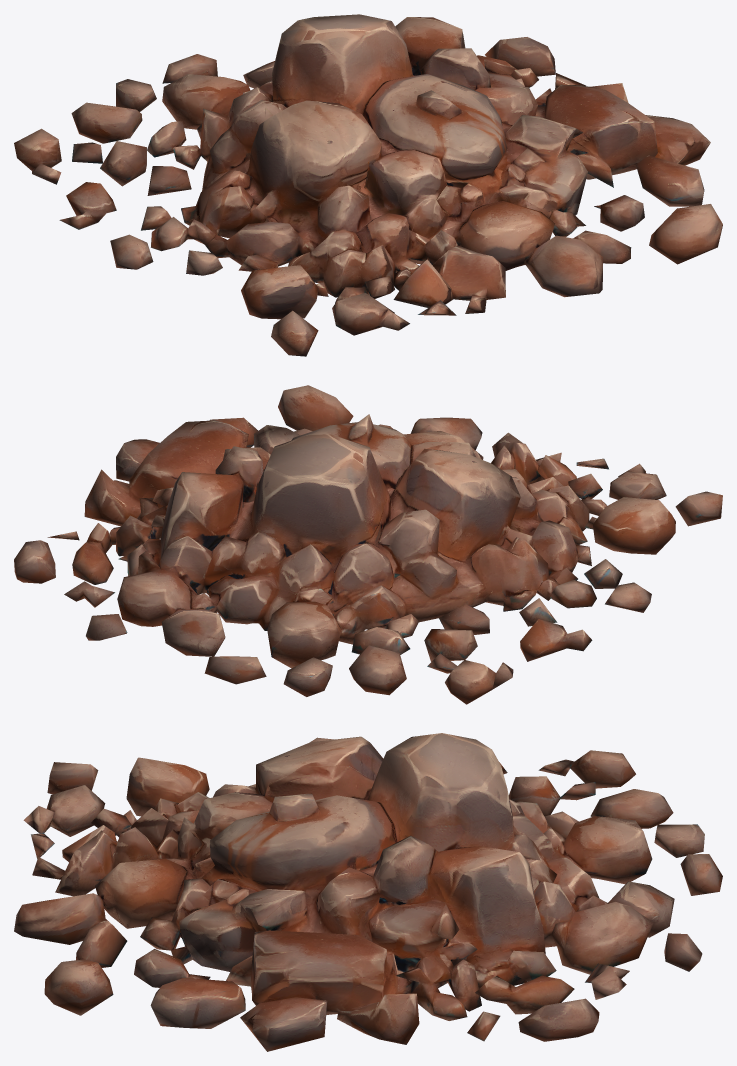
3 views of the same model, one above another, from view 1: azimuth 30°, elevation 25°; view 2: azimuth 150°, elevation 25°; view 3: azimuth 270°, elevation 25° (orthographic). The views are drawn at different scales.
Parts seen in each view (by area): view 1: Mesh_0; view 2: Mesh_0; view 3: Mesh_0.
Boxes of the visible parts, x1,y1,x2,y2 form: Mesh_0: [14, 14, 722, 356]; Mesh_0: [14, 385, 722, 704]; Mesh_0: [14, 733, 722, 1051].
Size of the model in its own units: 1.83 by 0.4889 by 1.86.
Materials: 1 (1 with a texture image).
